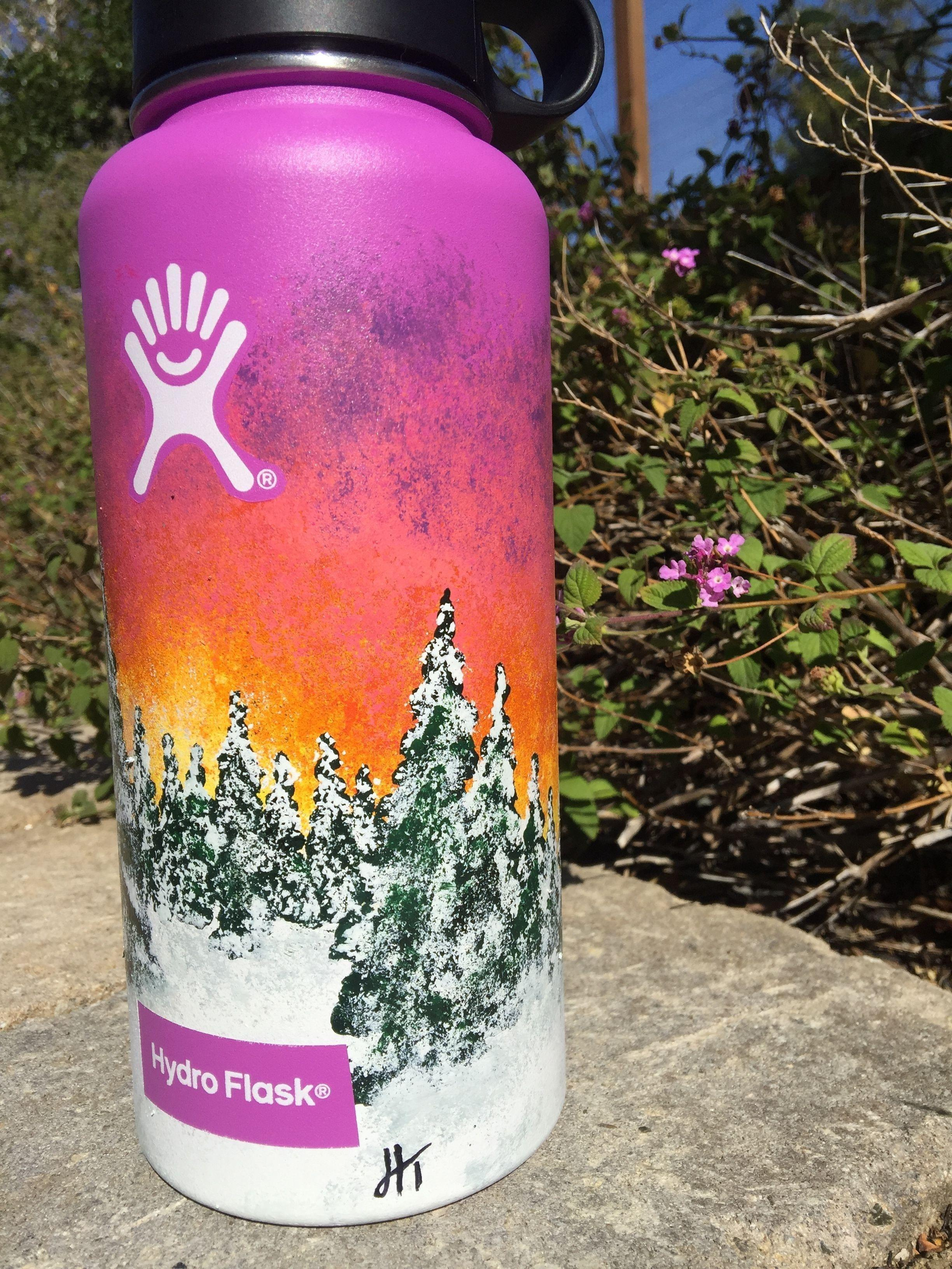gym bottle: (69, 0, 606, 1223)
